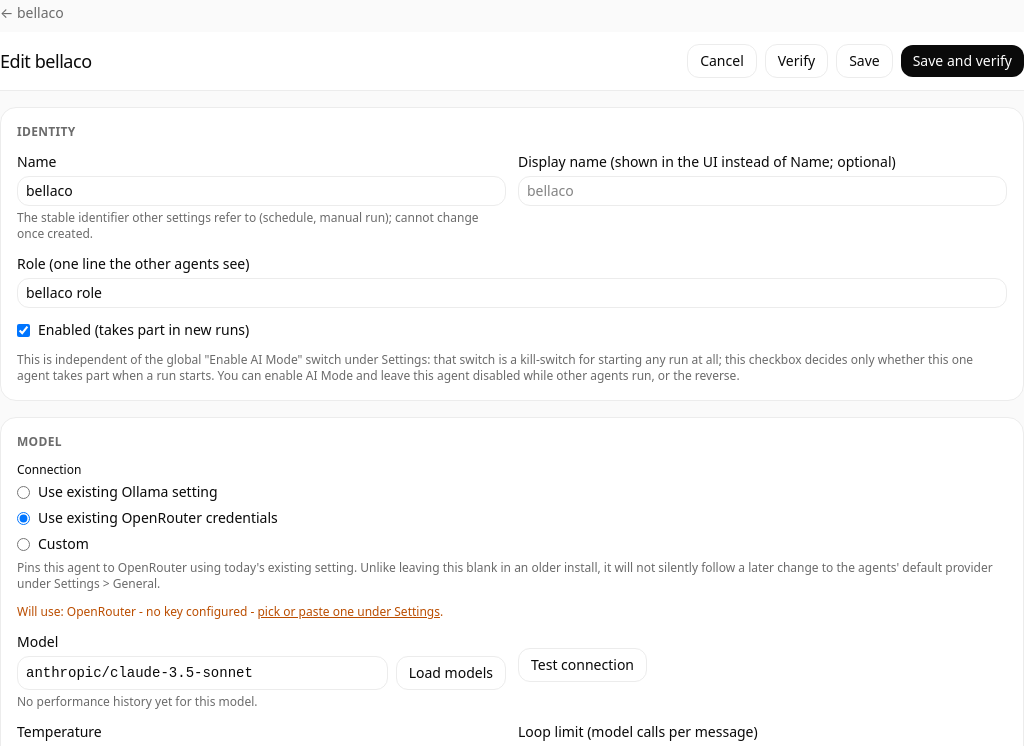
Test: AgentEditPage › tests the connection with this agent's own settings, same as the General/Assistant tabs
The image size is (1024, 746).
Click the button "Test connection". click: click(582, 665)
box: [518,648,647,682]
(page scrolled)
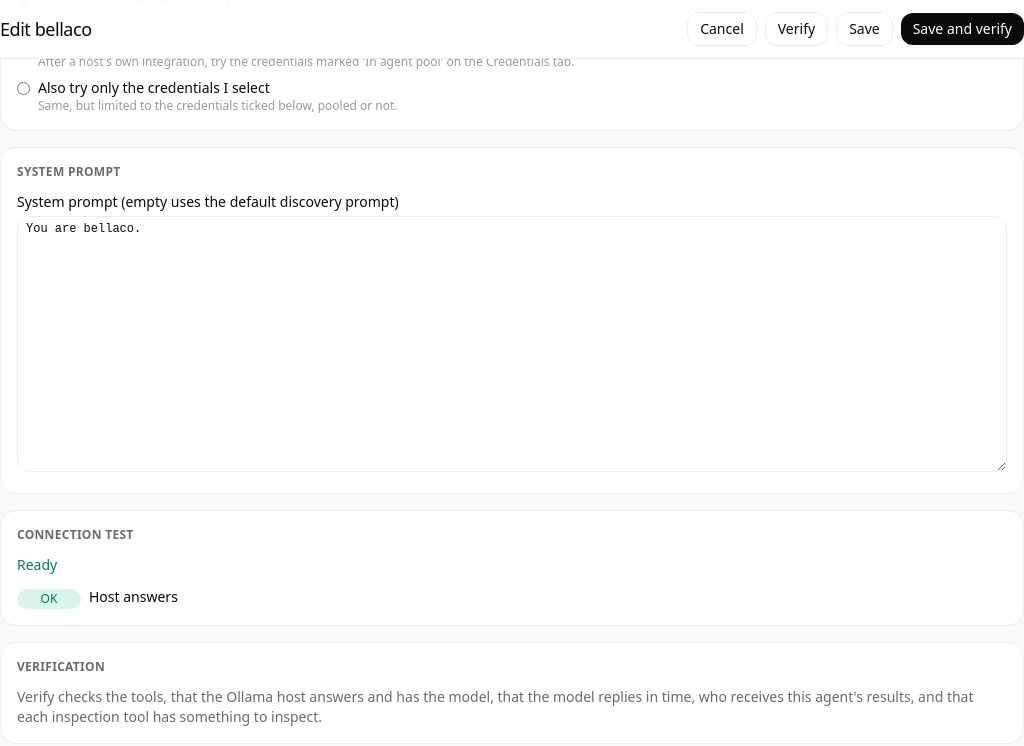
expect the text "Host answers" is shown: met, box [89,587,178,607]
